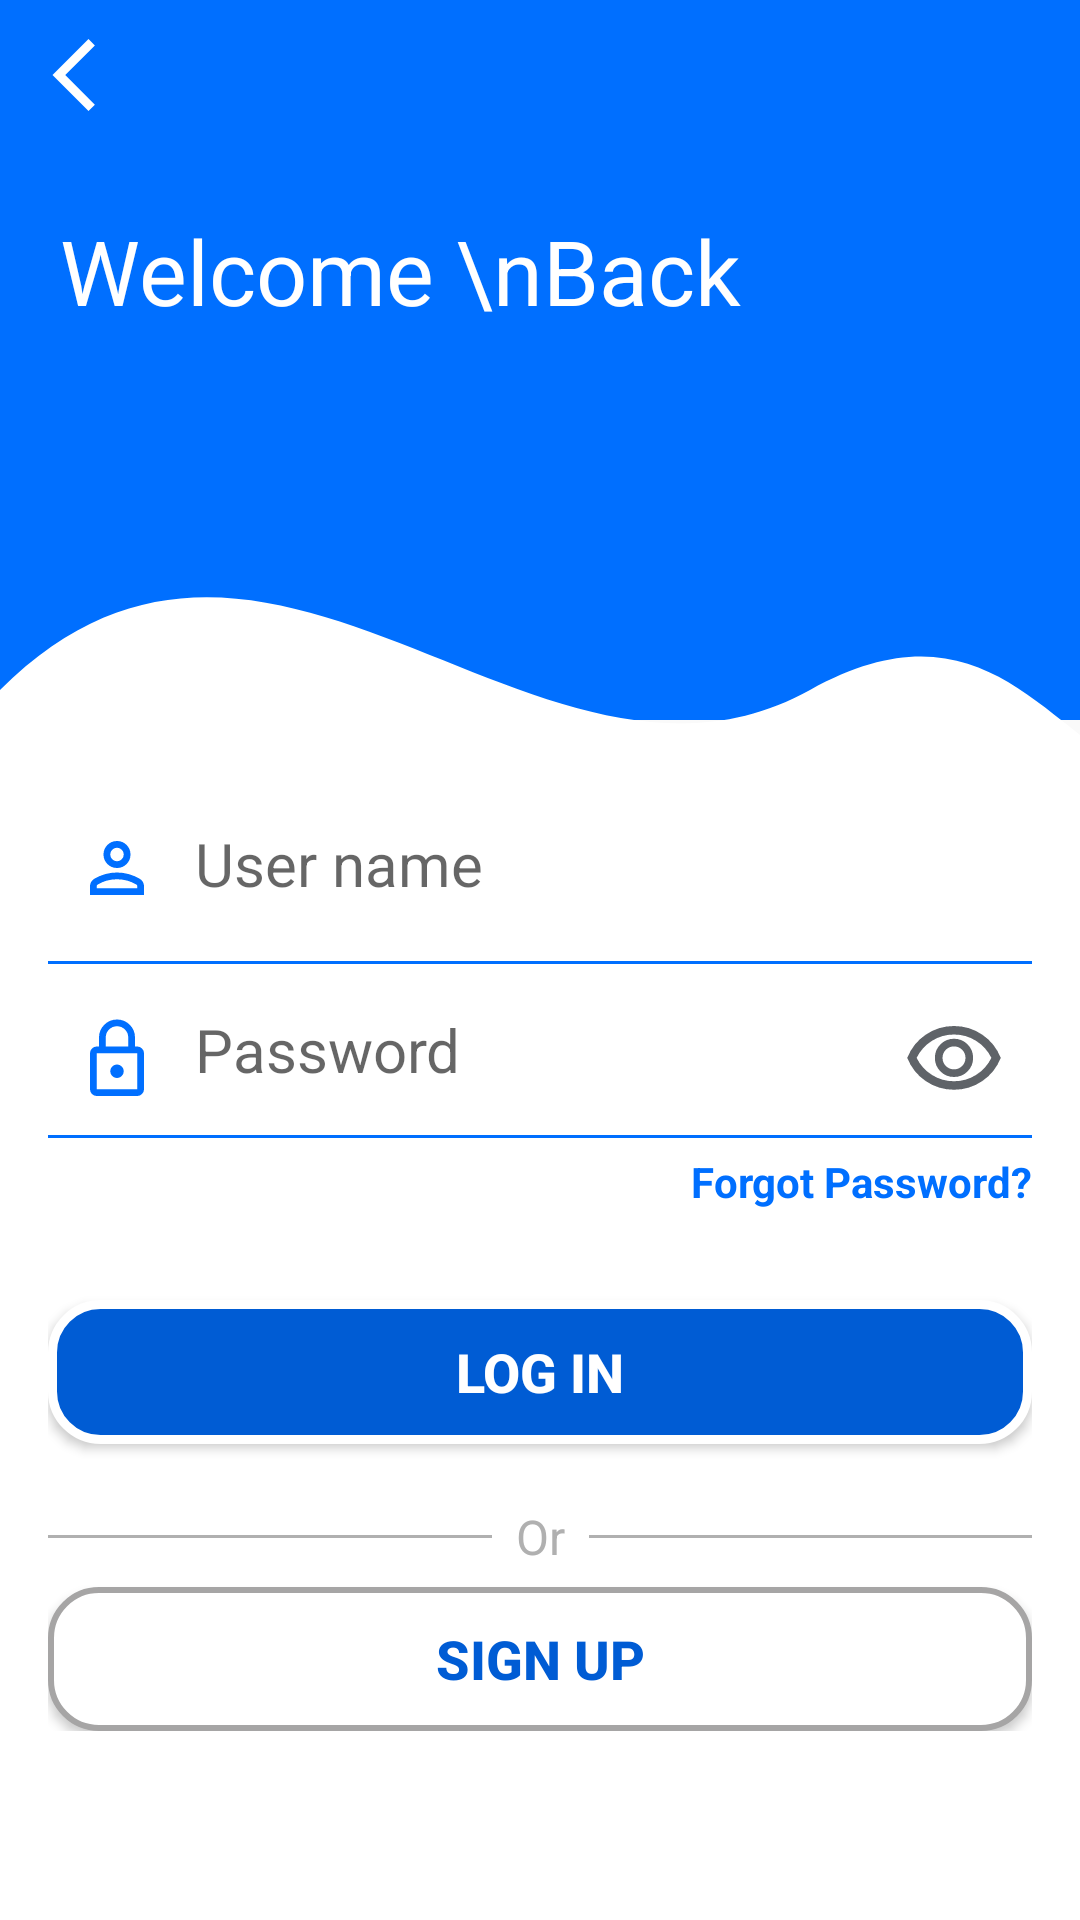

Named icons in this screenshot (1080*1920) and their bounding boxes, {"x1": x1, "y1": y1, "x2": x2, "y2": y2}:
eye: {"x1": 907, "y1": 1026, "x2": 1001, "y2": 1090}
lock: {"x1": 90, "y1": 1019, "x2": 144, "y2": 1096}
person: {"x1": 90, "y1": 841, "x2": 144, "y2": 895}
